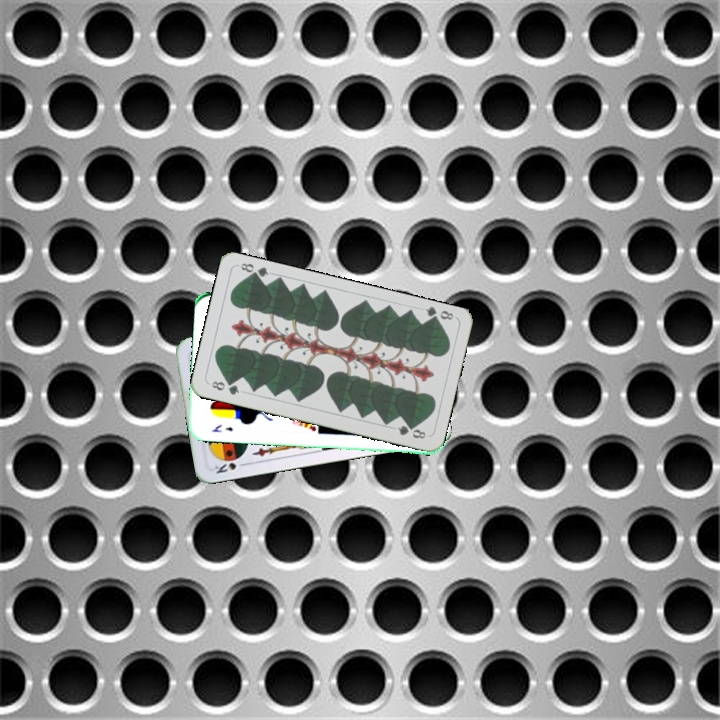EK: (207, 421, 235, 435)
G8: (421, 303, 456, 326), (205, 377, 242, 398)
SK: (210, 459, 250, 476)
